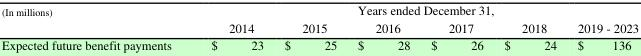table: (0, 0, 638, 53)
table column: (0, 0, 190, 53), (190, 0, 273, 53), (419, 0, 493, 53), (273, 0, 346, 53), (346, 0, 419, 53), (493, 0, 566, 53), (566, 0, 638, 53)
table column header: (0, 0, 638, 35)
table row: (0, 0, 638, 18), (0, 35, 638, 53), (0, 18, 638, 35)
table spanning cell: (190, 0, 638, 18), (0, 0, 190, 35)
